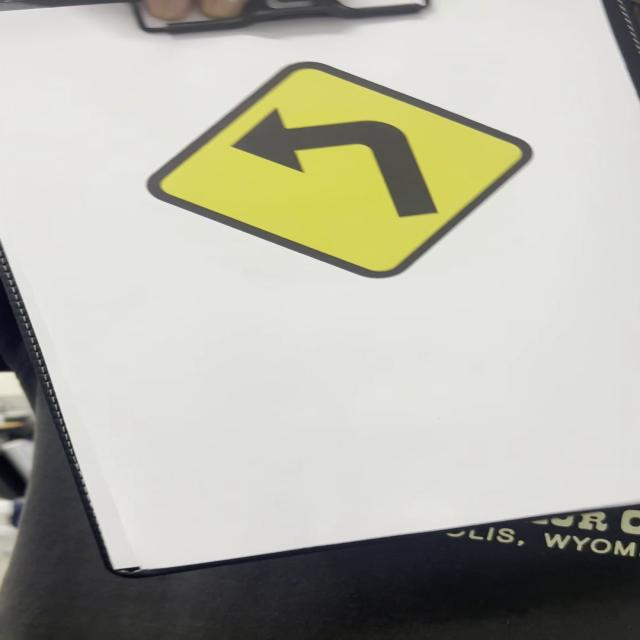left: (144, 60, 535, 275)
